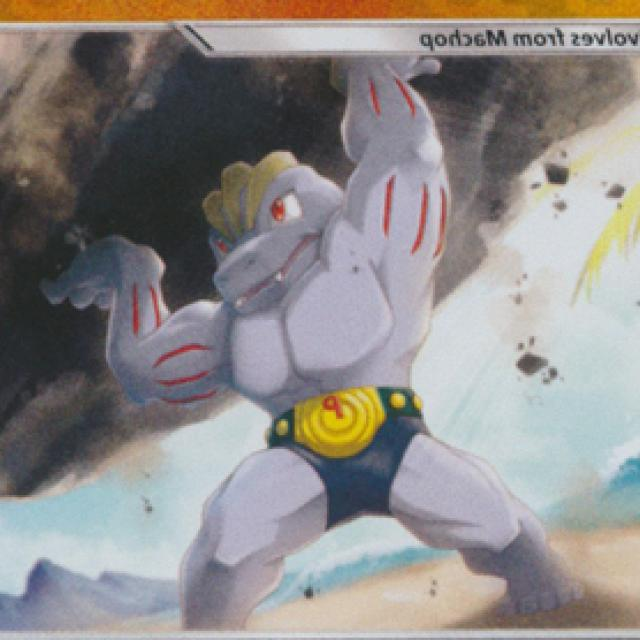Machoke: (106, 52, 466, 620)
